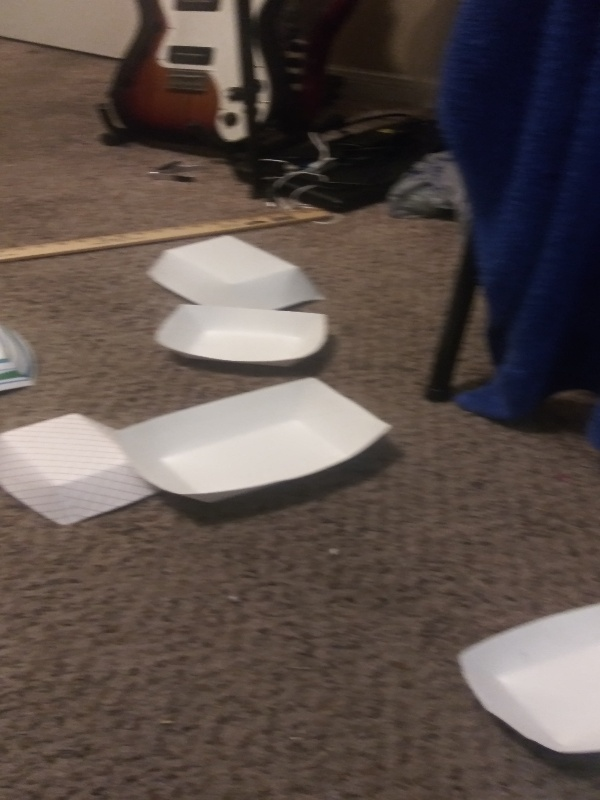plate: (114, 374, 395, 512), (452, 593, 600, 770), (1, 407, 163, 531), (144, 232, 330, 311), (152, 301, 333, 363), (1, 321, 40, 400)
